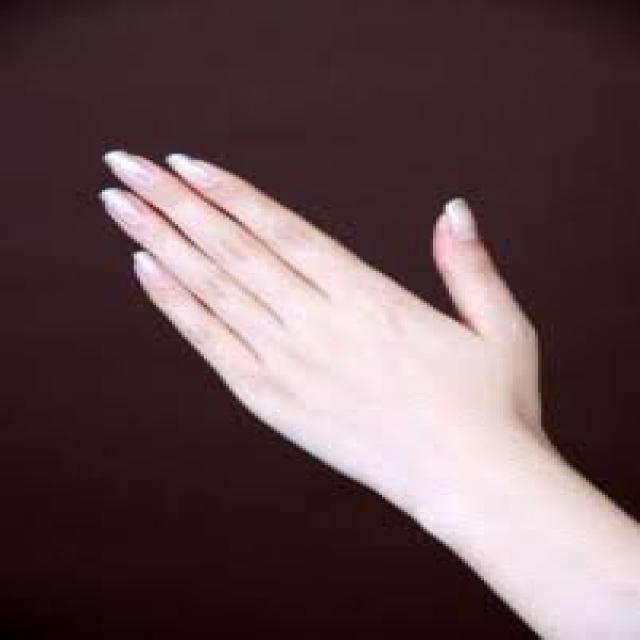no-gloves: (94, 146, 546, 480)
